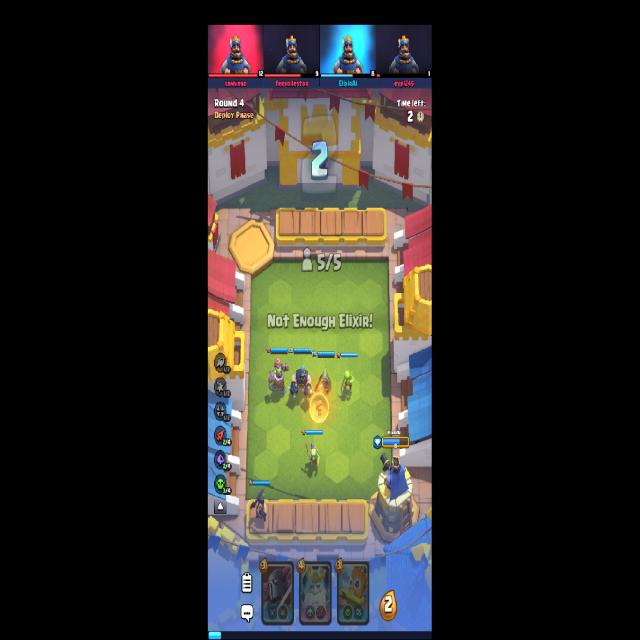bandit: (314, 368, 332, 398)
card_dart_goblin: (337, 559, 370, 626)
card_pekka: (261, 561, 294, 626)
card_royal_ghost: (299, 559, 332, 625)
executioner: (248, 487, 268, 524)
goblin: (341, 369, 354, 394)
goblin_machine: (267, 358, 288, 396)
mega_knight: (290, 364, 313, 402)
spear_goblin: (306, 442, 320, 468)
